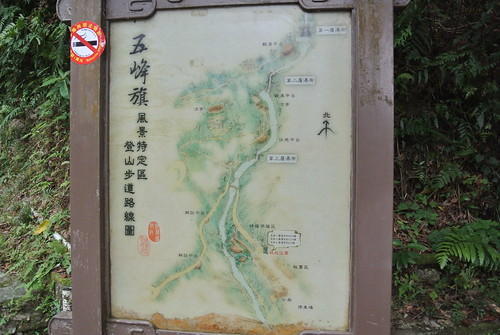wufengciMap: (112, 30, 343, 247)
